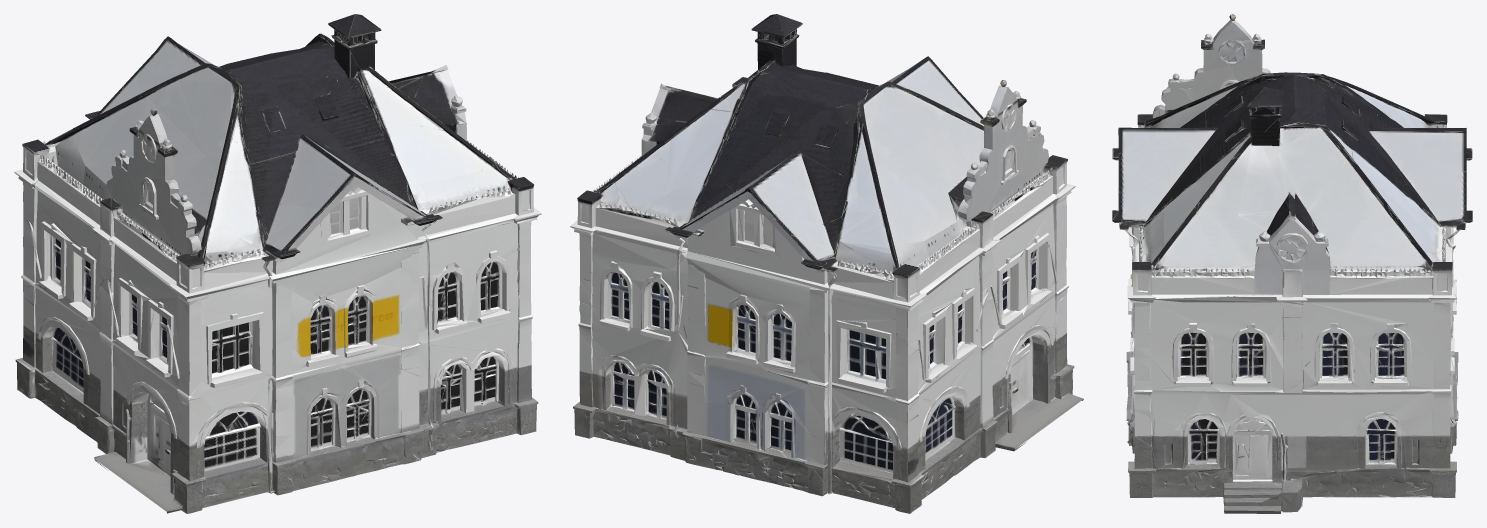
The model's file is town_hall.glb.
3 renders of one model, left to right at view 1: azimuth 30°, elevation 25°; view 2: azimuth 150°, elevation 25°; view 3: azimuth 270°, elevation 25°, orthographic. The views are drawn at different scales.
Bounding box in the file's own units: 1.9 × 1.79 × 1.6.
1 material, 1 textured.
